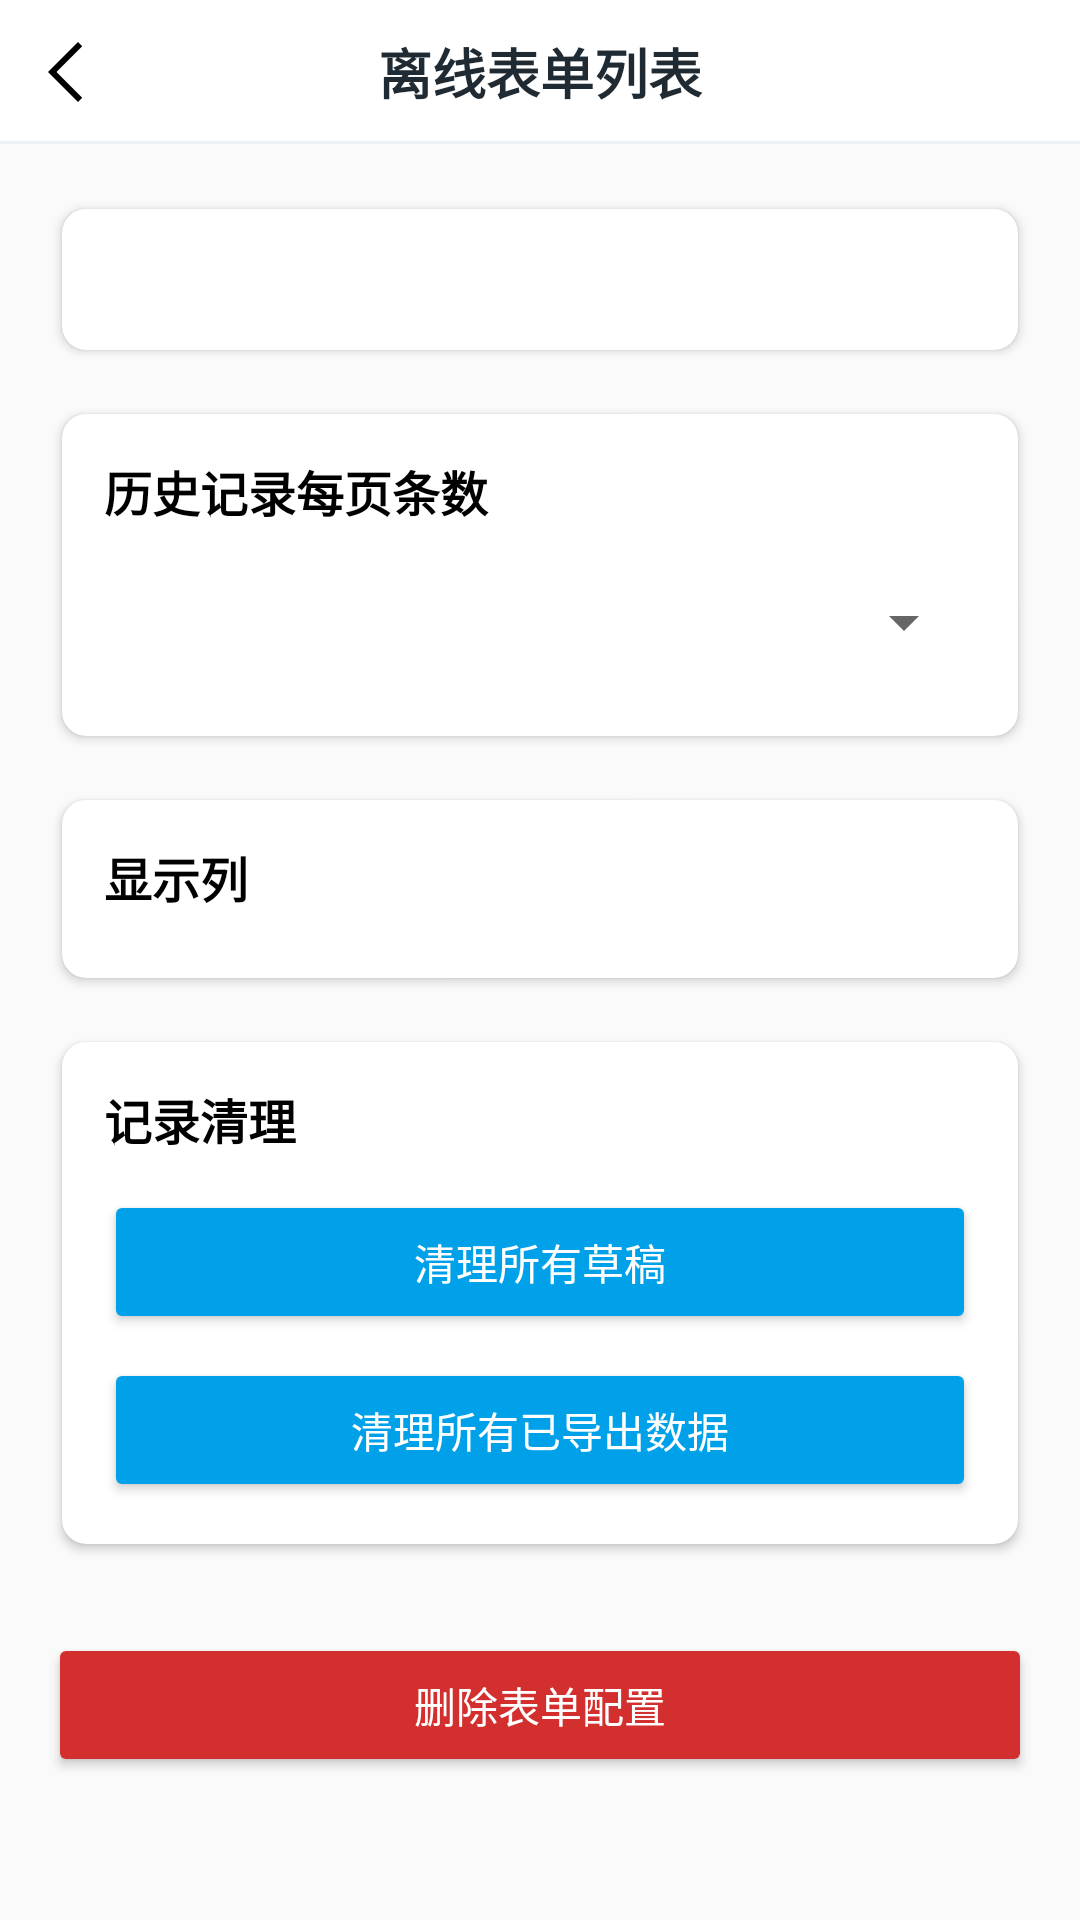

Named icons in this screenshot (1080 × 1920) and their bounding boxes, bbox=[x1, y1, x2, y2]:
返回: bbox=[48, 42, 82, 102]
